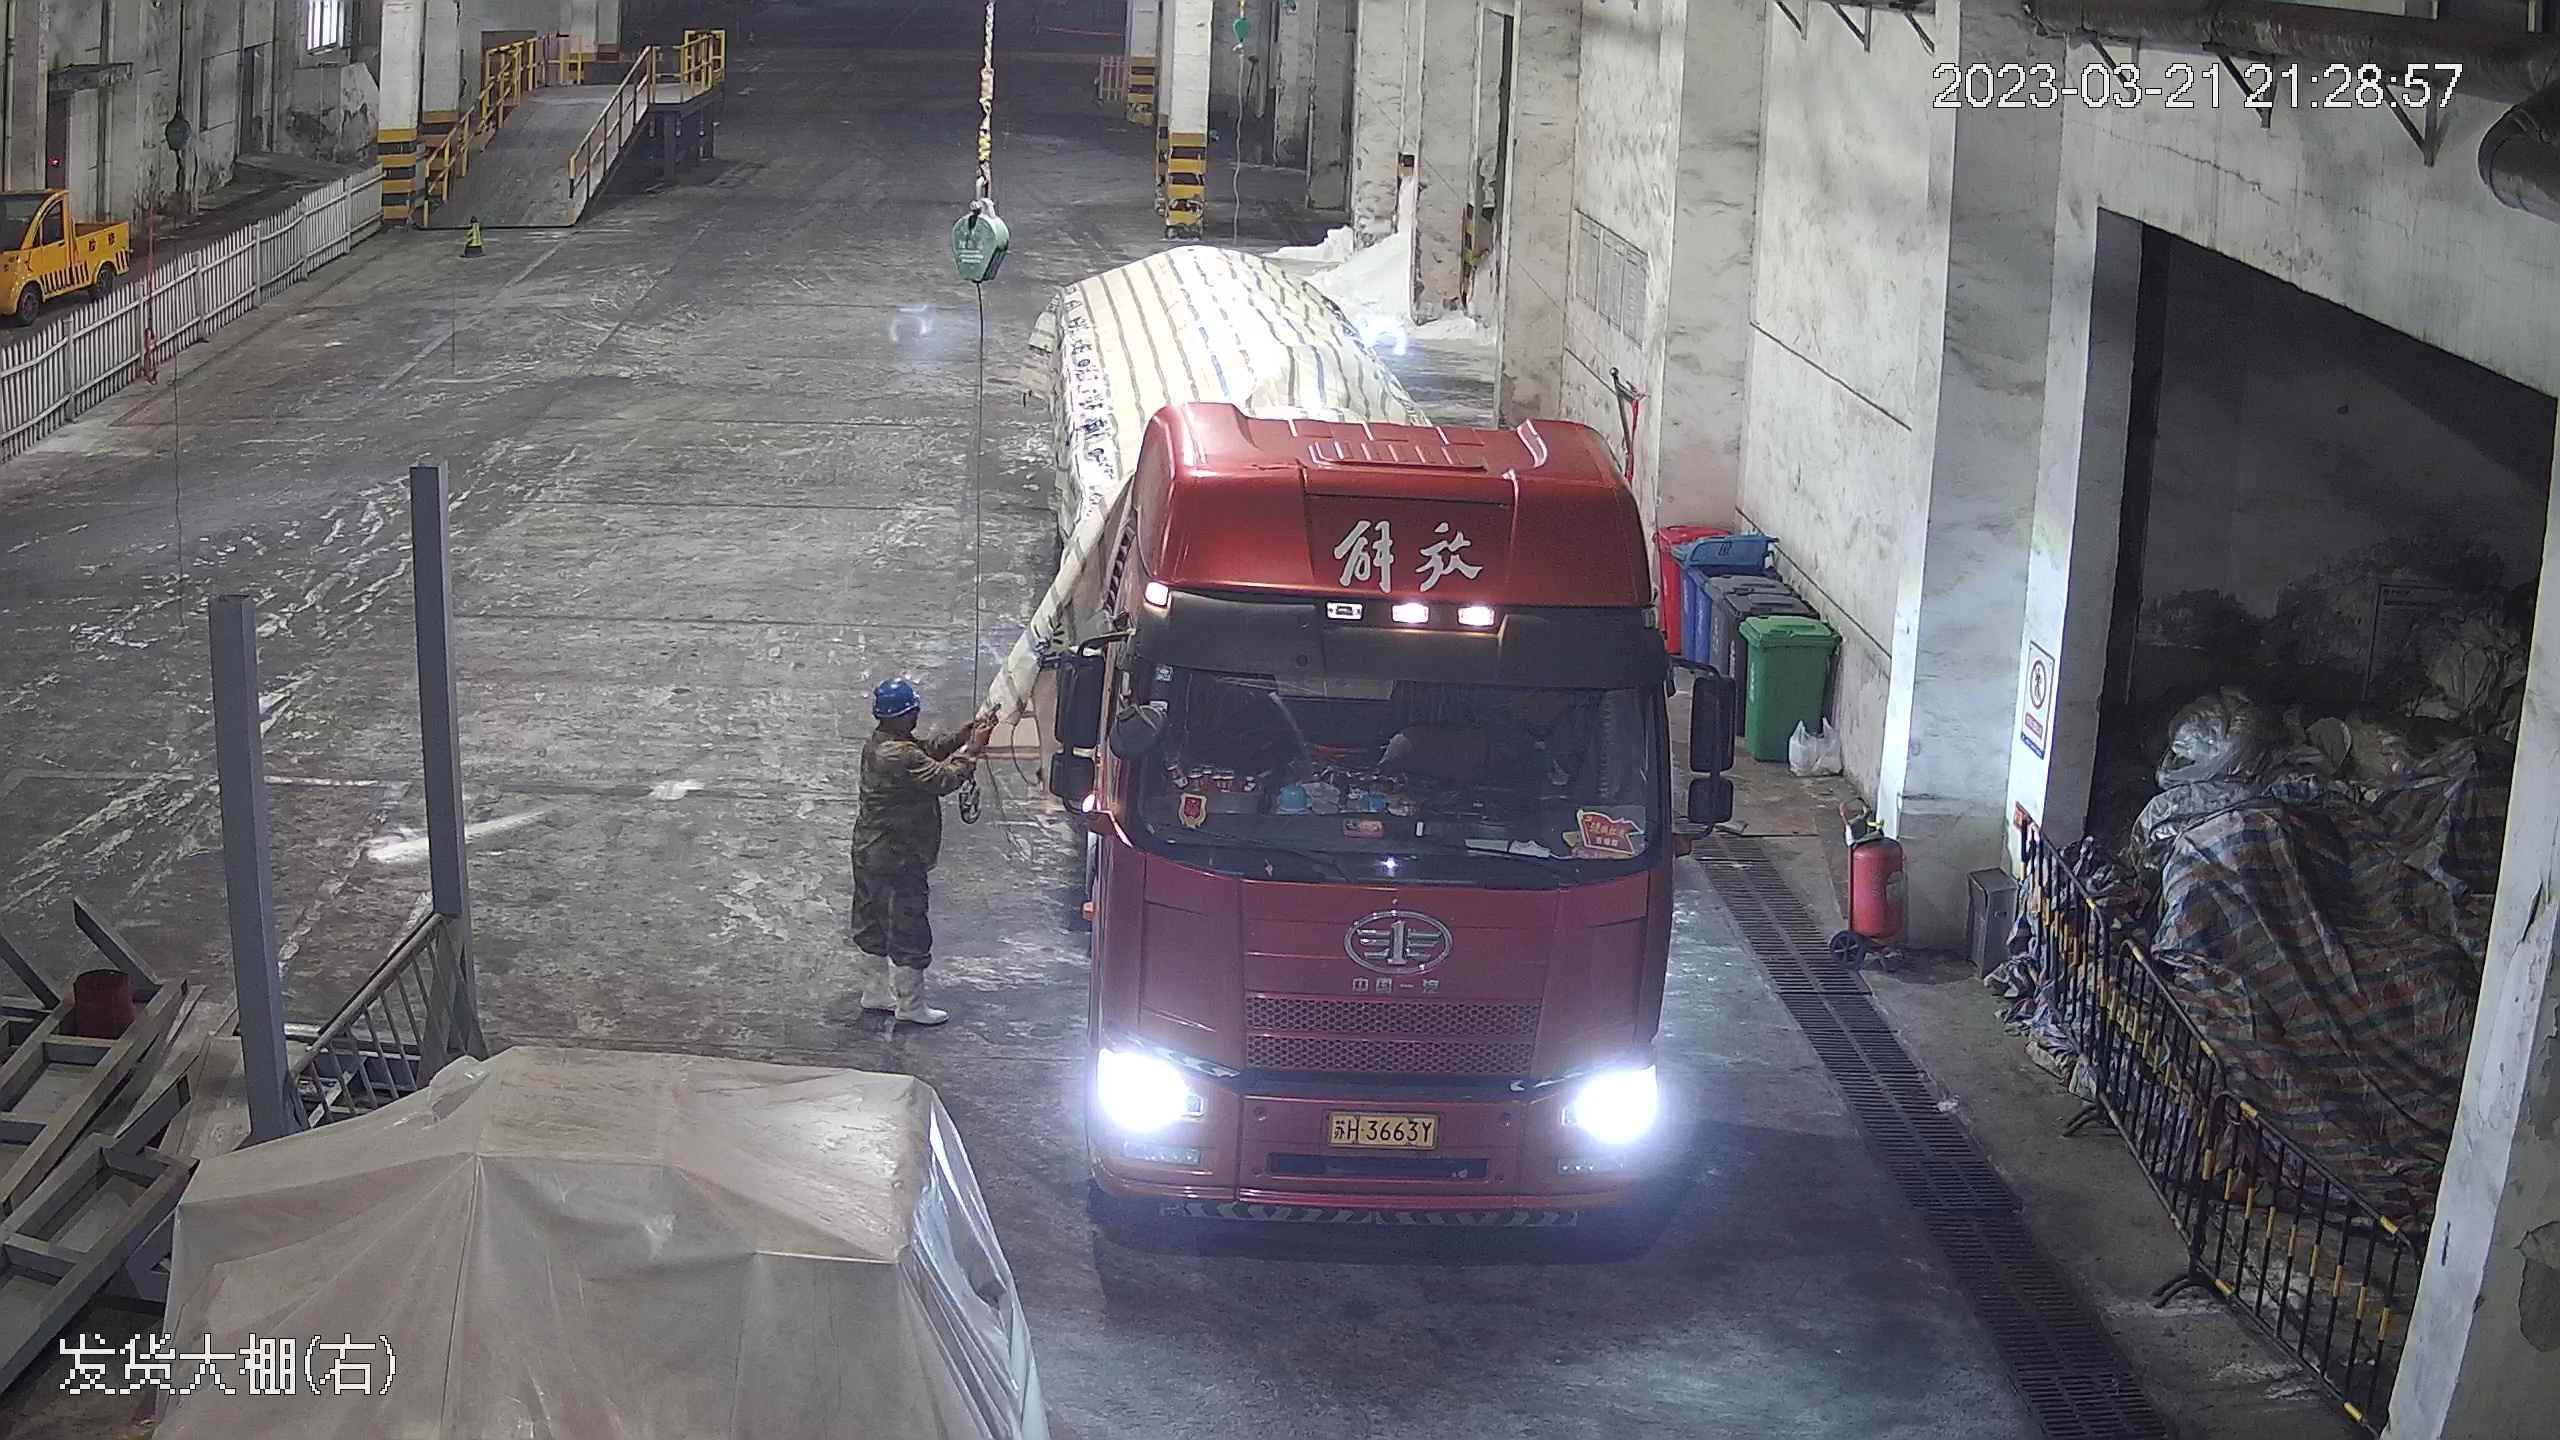head: (861, 667, 946, 782)
helmet: (870, 671, 923, 725)
people: (843, 646, 972, 1020)
truck: (1024, 19, 1710, 1229)
